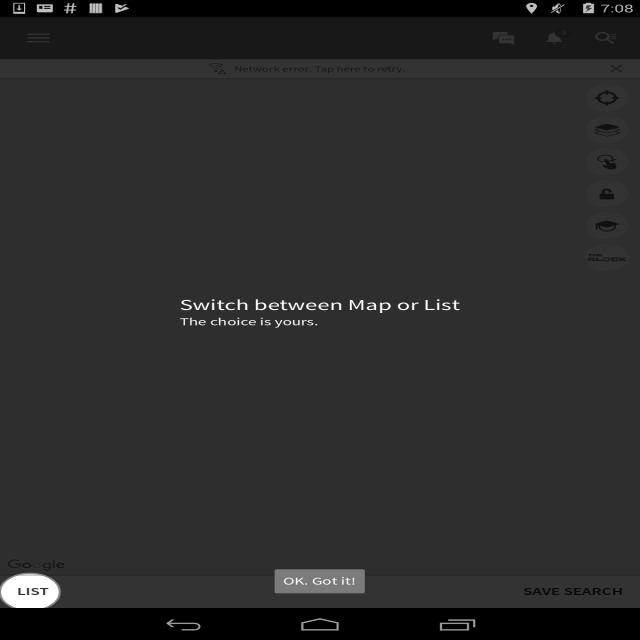Button: (0, 576, 506, 608), (505, 576, 640, 608), (270, 566, 369, 598), (584, 83, 630, 113), (584, 115, 630, 145), (584, 243, 630, 273)
ImageButton: (9, 17, 68, 59)
ImageView: (0, 573, 640, 576), (0, 78, 640, 81), (5, 558, 70, 573), (491, 30, 516, 46), (601, 63, 632, 74), (204, 62, 230, 75), (545, 32, 564, 44)
TextView: (180, 295, 460, 315), (180, 315, 318, 329), (234, 63, 406, 74), (580, 22, 632, 54), (554, 27, 572, 38)
